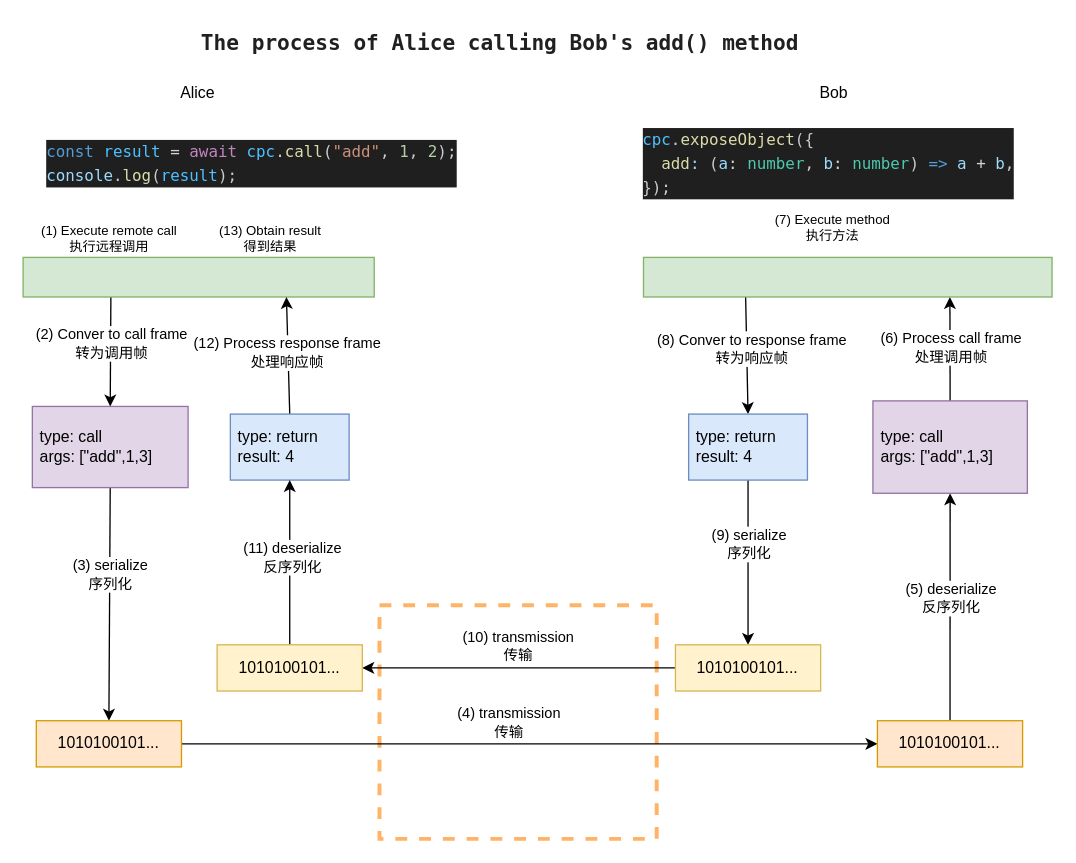
The diagram is 1076 pixels wide and 863 high, and some of its shapes have lost their labels. The centre of each missing label's shape, as x and y in pixels:
"await bob.add(1,3)" belongs at pixel 198 276.
"res = add(1,3)" belongs at pixel 847 276.
"数据传输 （ TCP / WebSocket / Unix域套接字 / 管道）" belongs at pixel 517 721.
